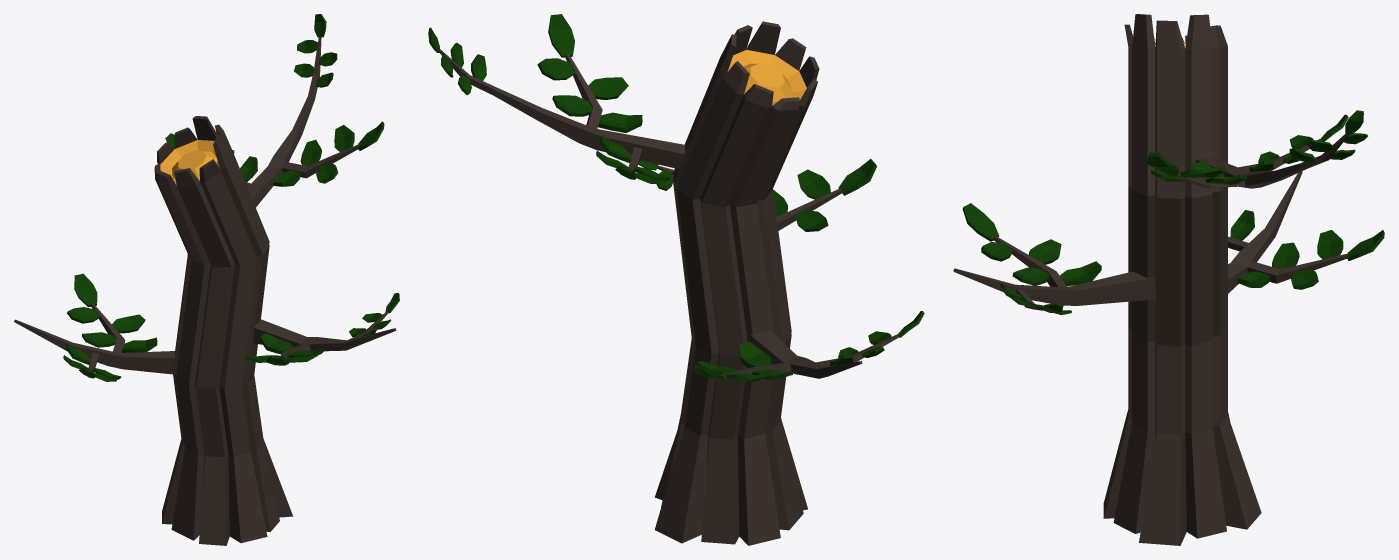
Rendered from Broken_Tree_Summer.fbx.
3 views of the same model, side by side, from view 1: azimuth 30°, elevation 25°; view 2: azimuth 150°, elevation 25°; view 3: azimuth 270°, elevation 25° (orthographic). The views are drawn at different scales.
Parts seen in each view (by area): view 1: Broken_Tree_Summer; view 2: Broken_Tree_Summer; view 3: Broken_Tree_Summer.
Part boxes in pixels (box(x1,y1,x2,y2)): Broken_Tree_Summer: box(14, 14, 399, 545); Broken_Tree_Summer: box(428, 14, 924, 545); Broken_Tree_Summer: box(953, 14, 1384, 545).
Bounding box in the file's own units: 297 × 350 × 273.
